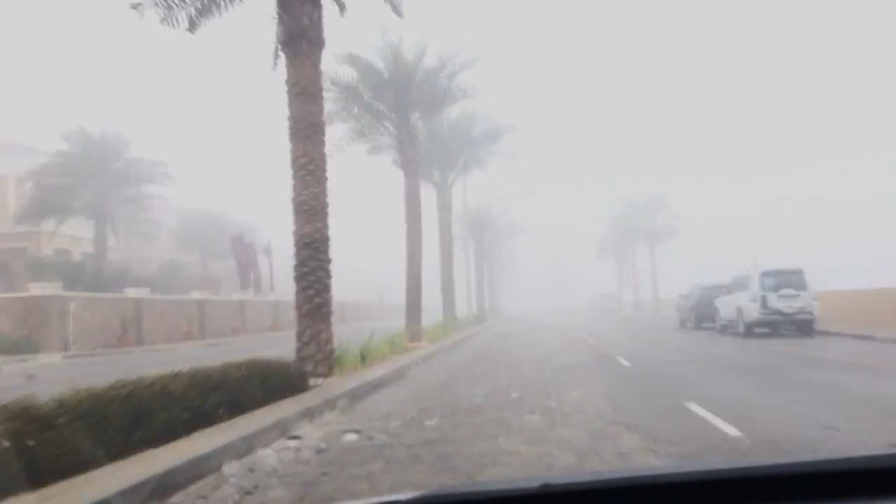car: (709, 264, 817, 339), (672, 278, 740, 332)
